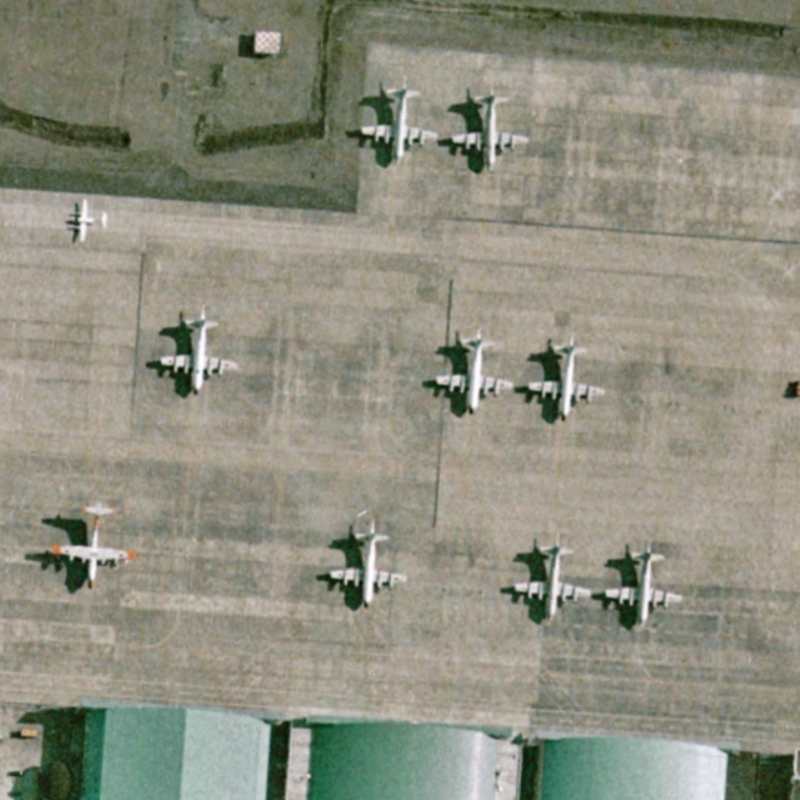A2: (42, 502, 143, 592)
A9: (145, 300, 243, 401), (320, 508, 409, 614), (424, 325, 519, 420), (600, 533, 689, 634), (520, 330, 610, 429), (444, 78, 535, 175), (349, 74, 439, 170), (506, 528, 593, 627)
